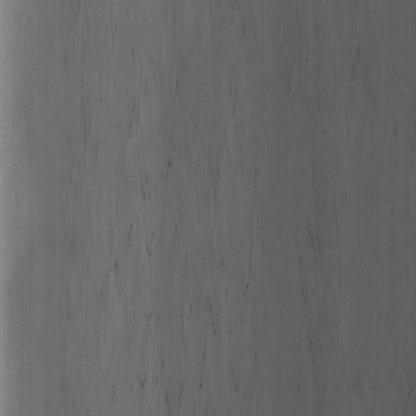silk_spot: (88, 56, 392, 416)
